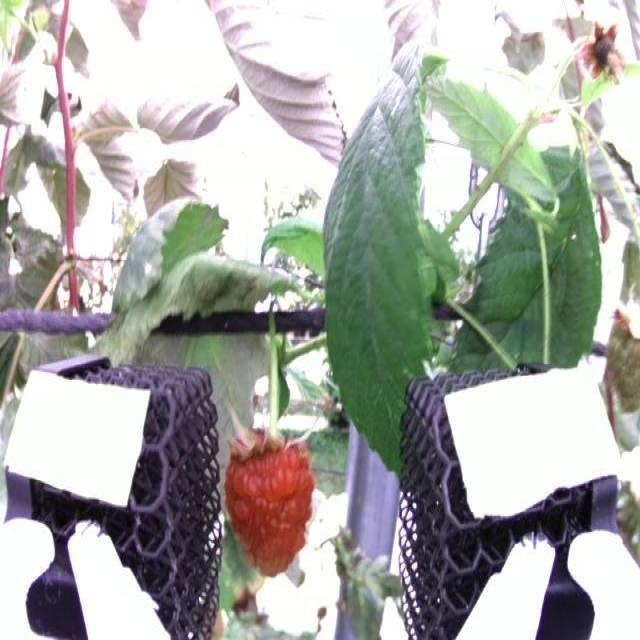Riped berries: (222, 424, 317, 579)
